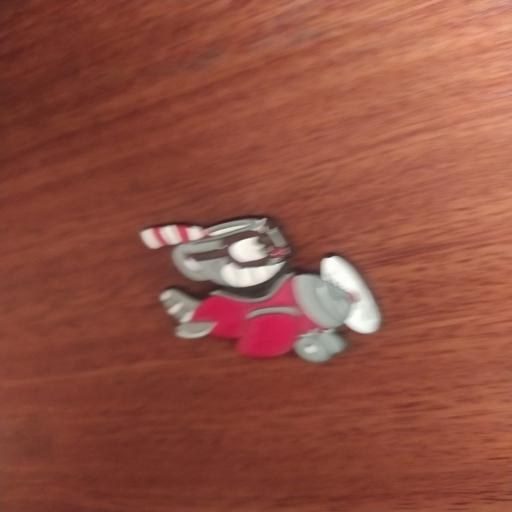Pin: (122, 208, 390, 374)
